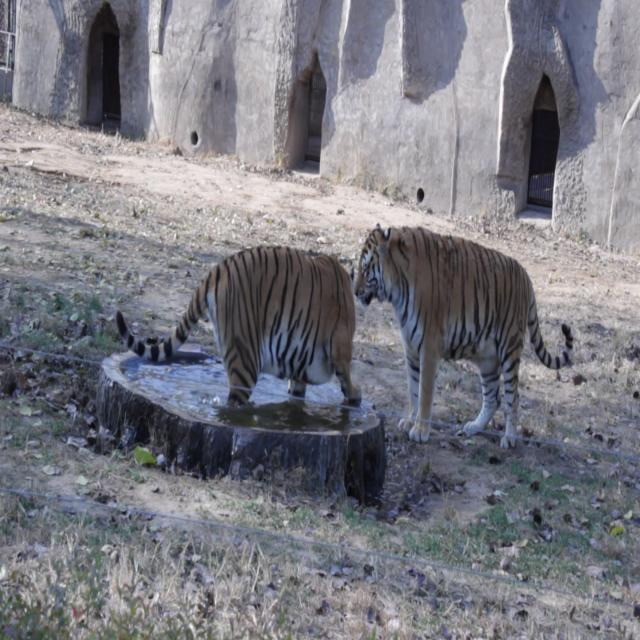Tiger: (353, 216, 579, 457), (114, 225, 358, 431)
